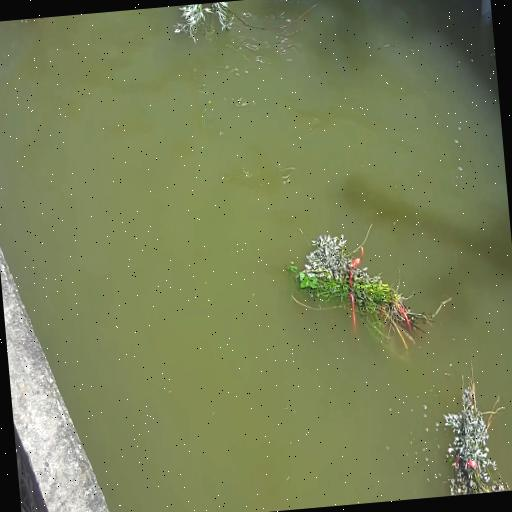twig: (284, 218, 444, 357), (434, 356, 512, 495), (173, 2, 239, 46)
